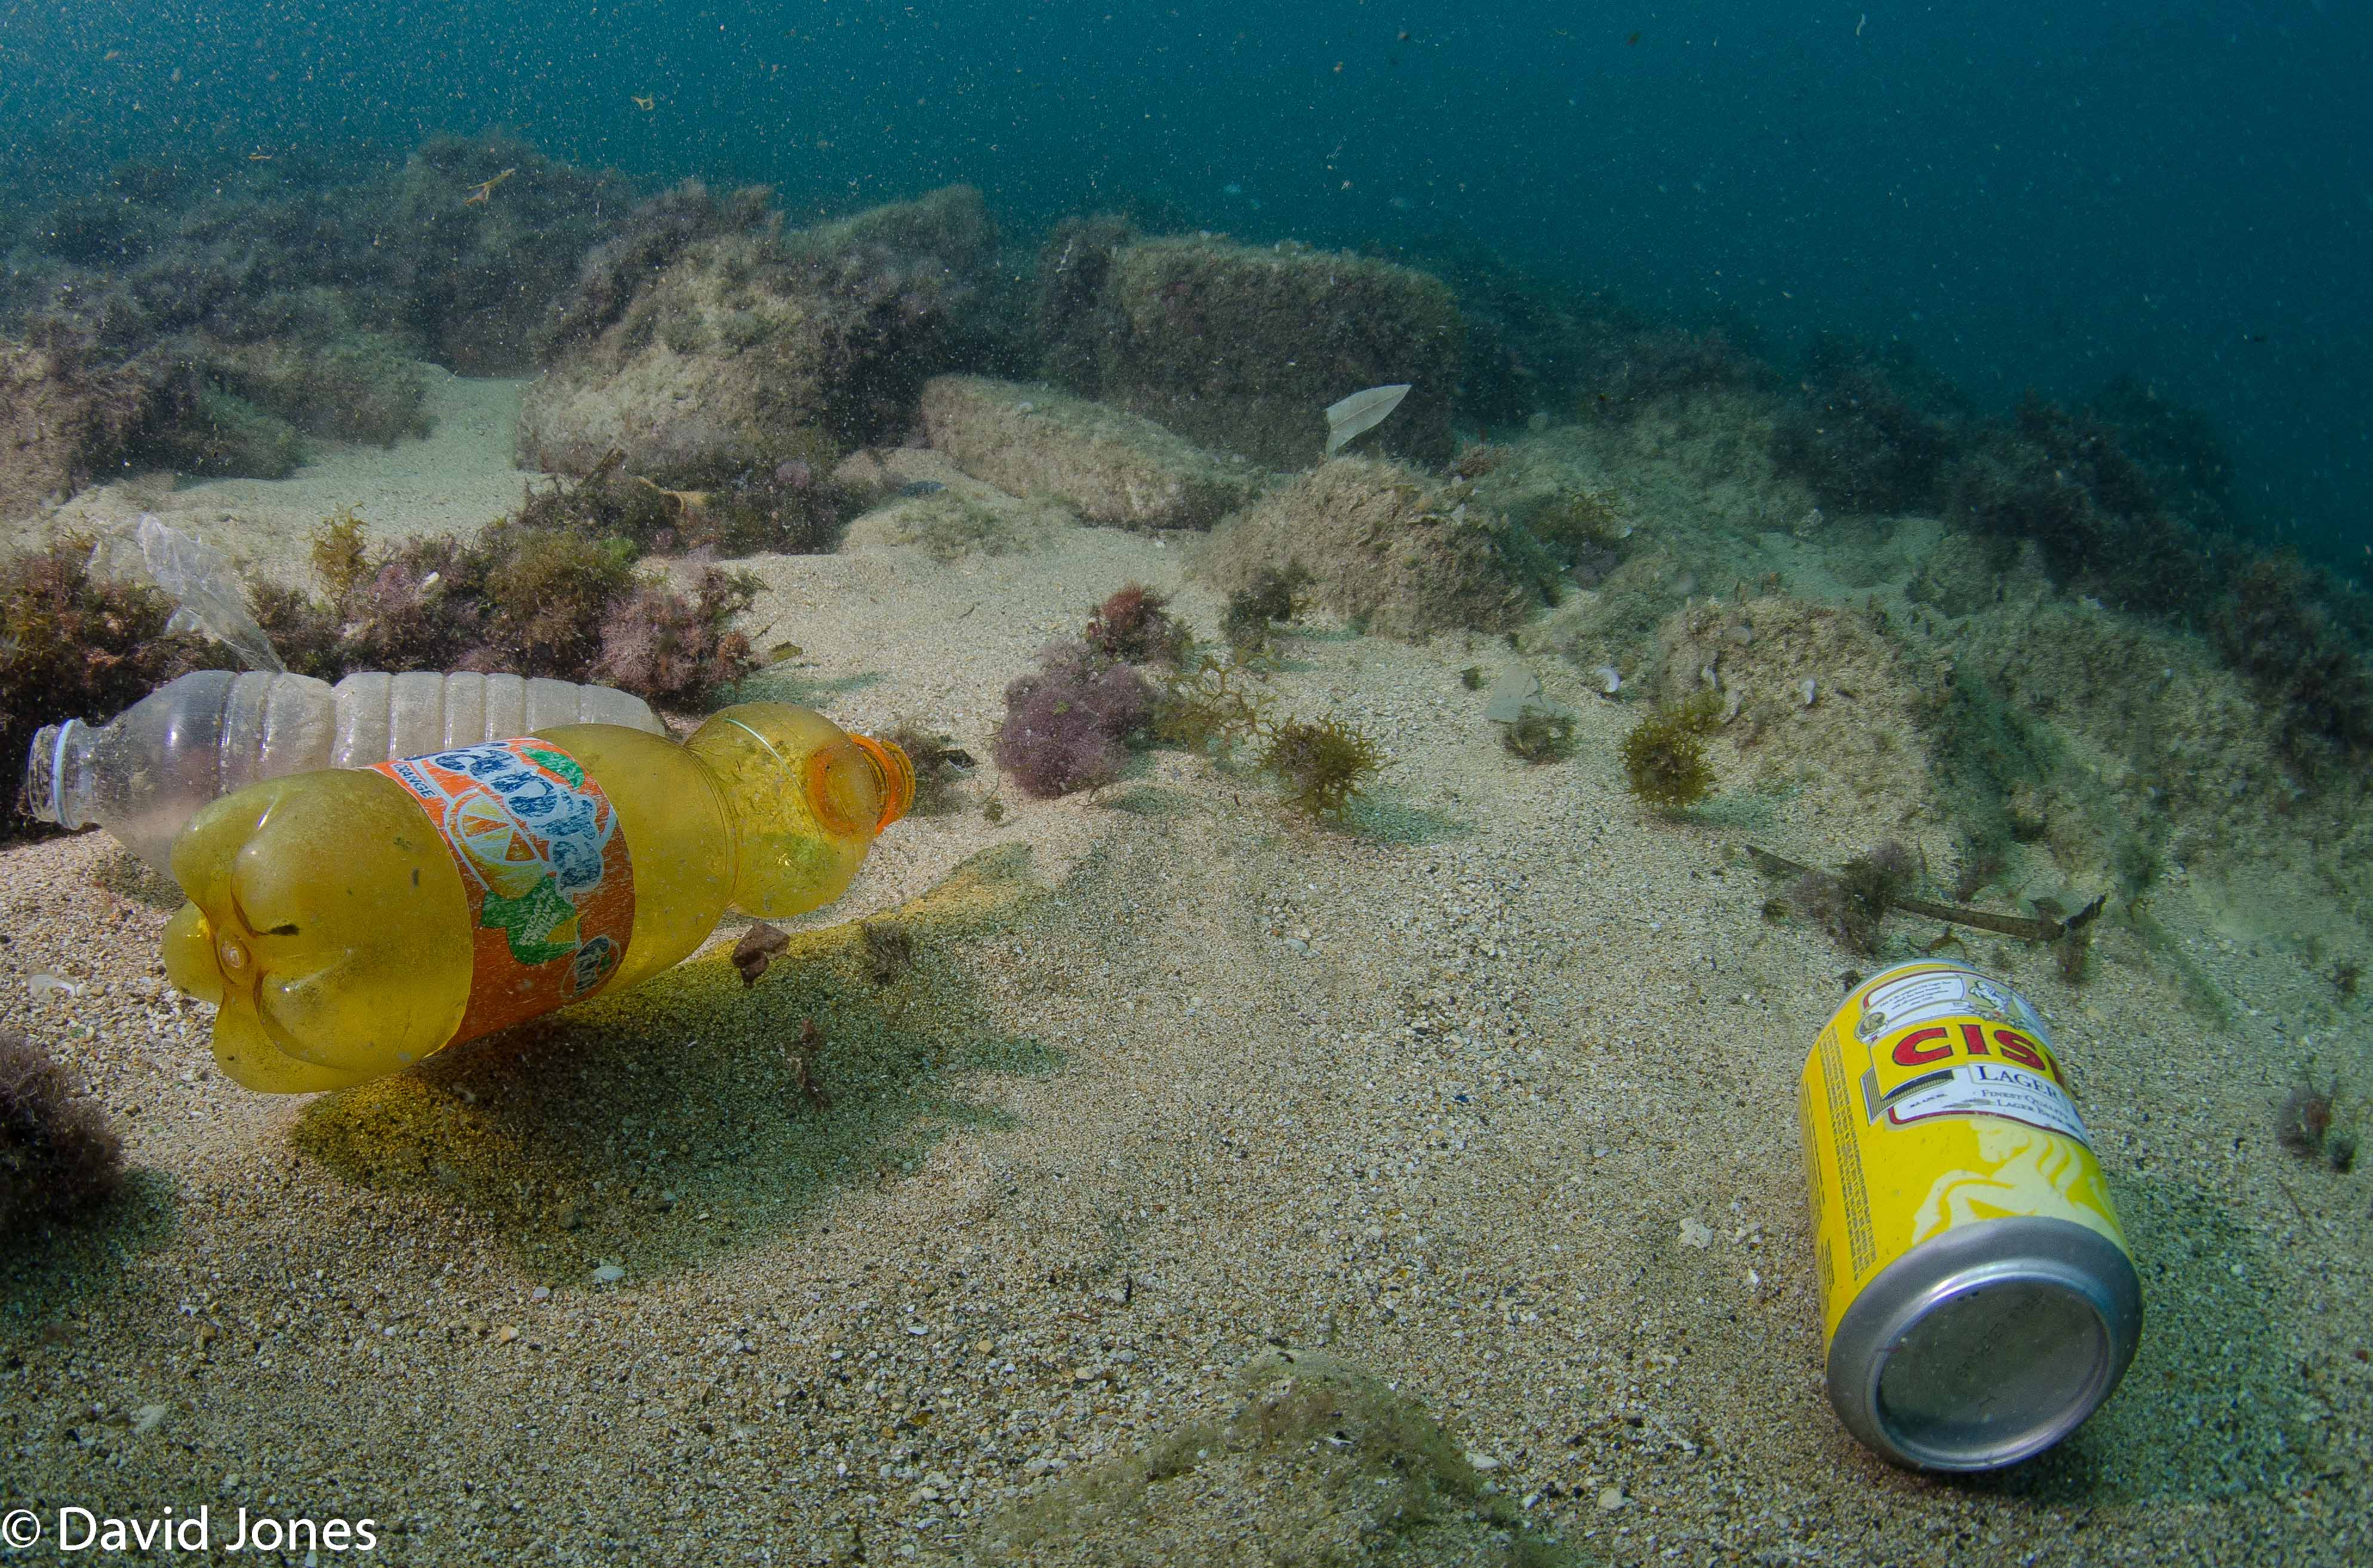Metal: (1764, 920, 2161, 1479)
Plastic: (154, 695, 915, 1109), (21, 672, 695, 859)
